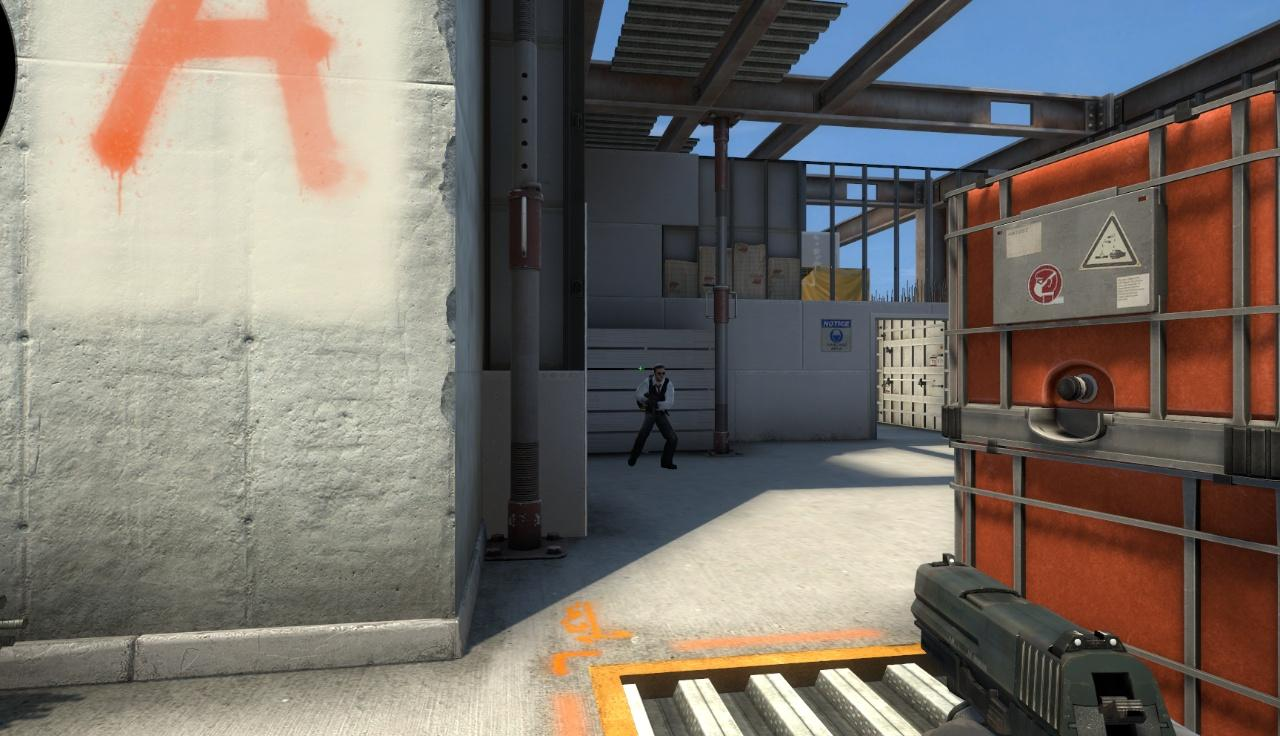pistol: (910, 551, 1181, 736)
tt: (629, 364, 678, 471)
tthead: (654, 364, 666, 380)
